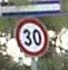limite 30: (15, 17, 49, 57)
